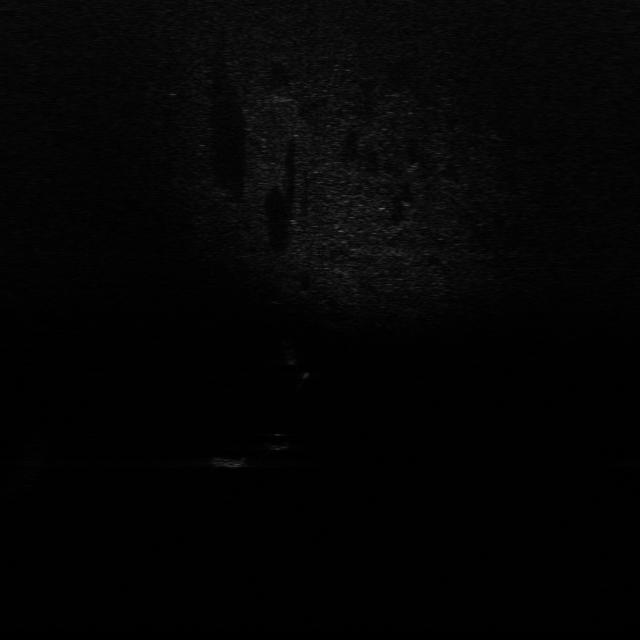ball: (263, 430, 292, 452)
circle cage: (207, 449, 251, 471)
human body: (281, 349, 318, 383)
